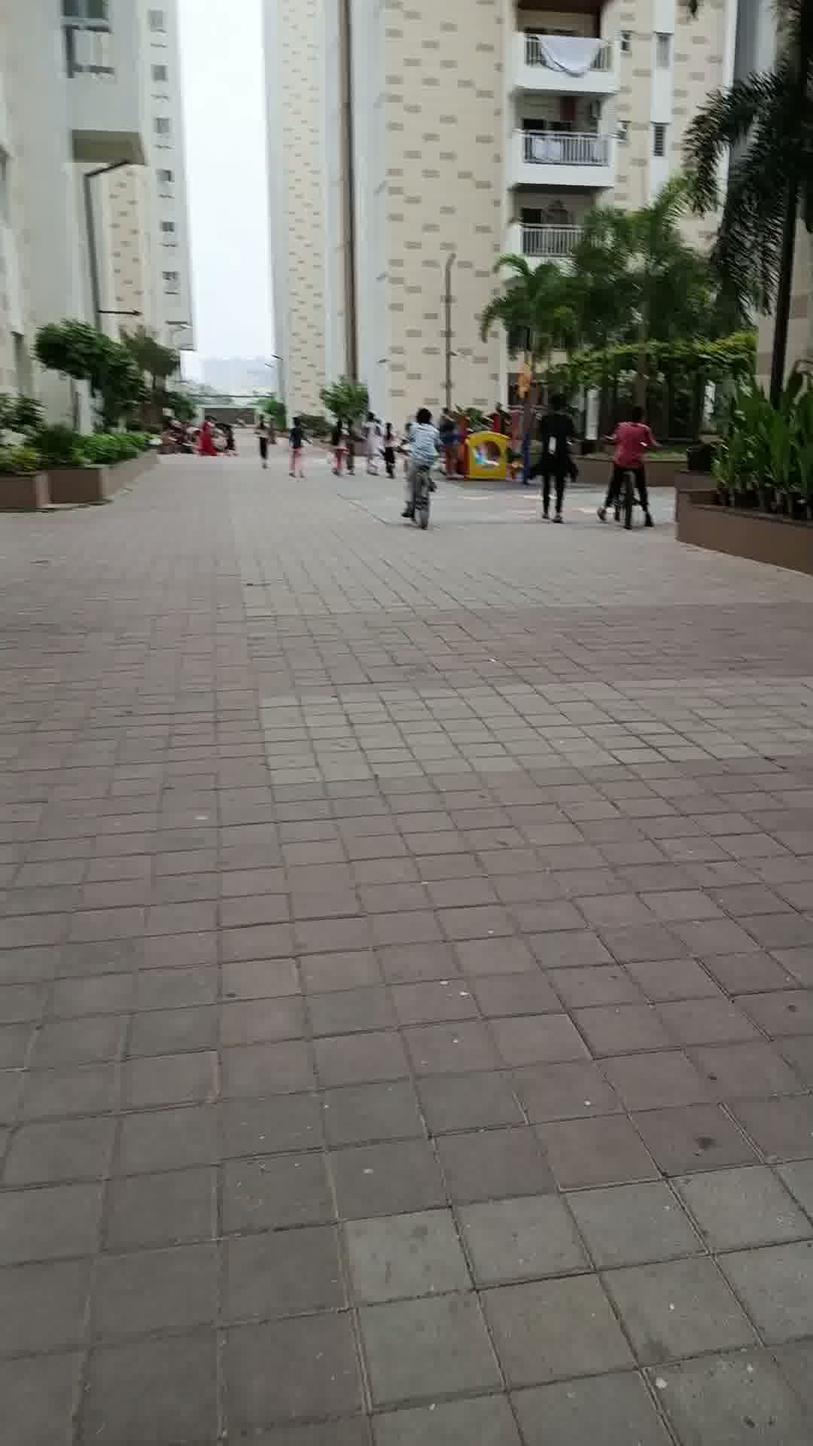person: (387, 399, 464, 545), (521, 372, 578, 528), (608, 394, 657, 538), (284, 401, 310, 500), (323, 412, 351, 480), (248, 401, 273, 472)
tree: (674, 5, 813, 456), (578, 196, 687, 402), (32, 293, 117, 468), (478, 220, 555, 407), (124, 310, 176, 443), (325, 347, 377, 441)
